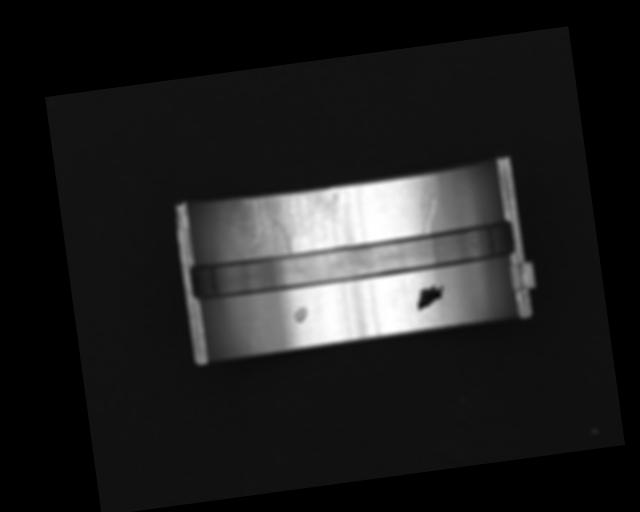blot: (413, 282, 446, 310)
bruise: (291, 306, 310, 324)
gap: (187, 220, 518, 302)
nick: (416, 190, 439, 234)
scratch: (232, 185, 345, 260)
